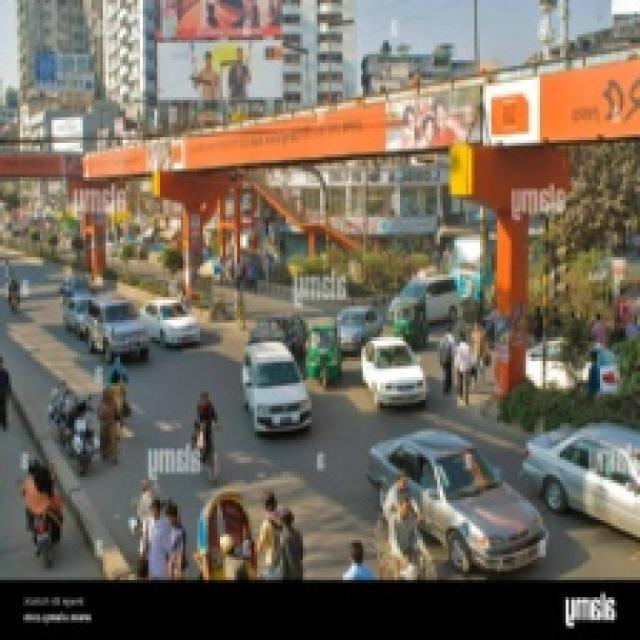bike: (21, 464, 61, 568), (67, 396, 96, 470), (45, 384, 71, 434), (6, 274, 21, 313)
car: (379, 419, 548, 562), (516, 399, 640, 540), (241, 334, 301, 438), (359, 329, 426, 410), (389, 269, 464, 327), (87, 284, 142, 361), (148, 282, 207, 350), (330, 297, 385, 352), (60, 288, 93, 339), (55, 263, 96, 300)
